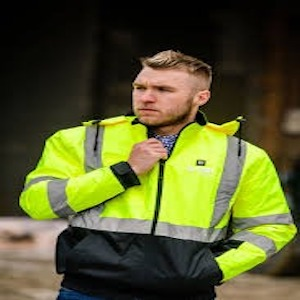vest: (21, 120, 297, 278)
